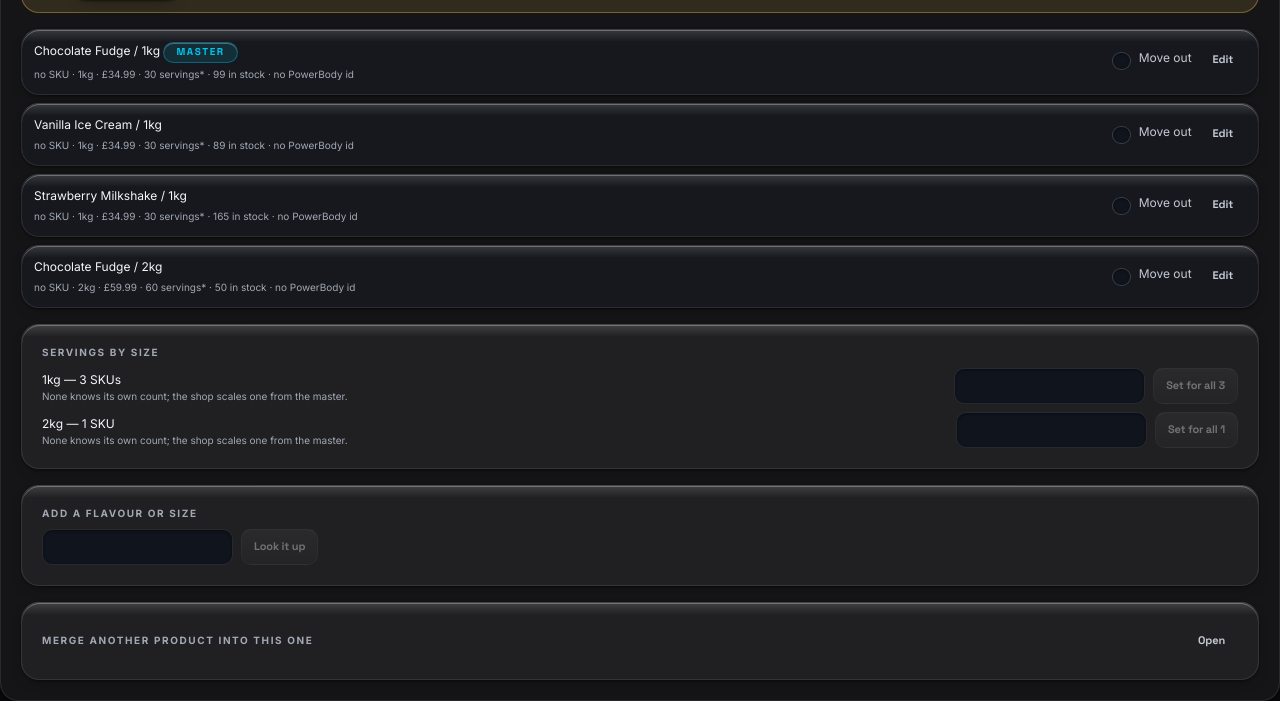
Test: merging another product in › says why and links on when the server still refuses the hand-over
(page scrolled)
Click the button "Open": {"x": 1212, "y": 641} [1185,623,1238,659]
(page scrolled)
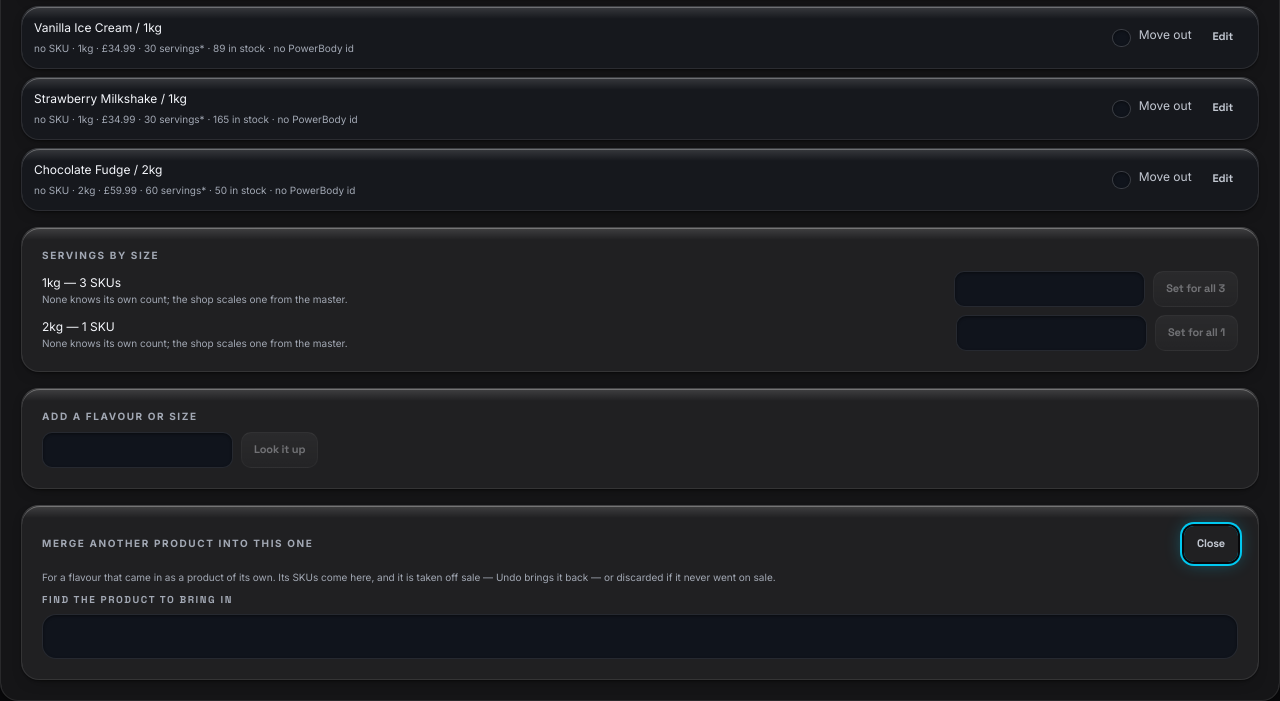
In the search field labelled "Find the product to bring in": {"x": 640, "y": 637} [42,614,1238,659], type "whey"
(page scrolled)
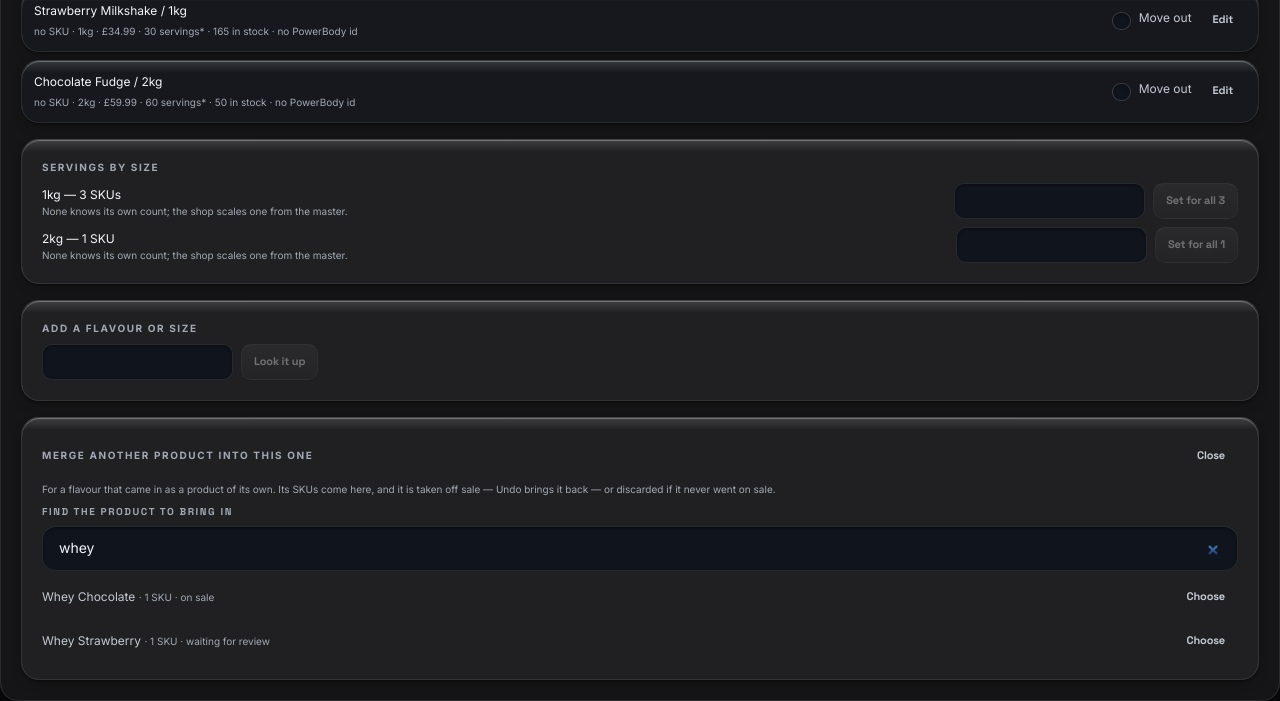
Click the button "Choose" in the row of "Whey Chocolate": {"x": 1206, "y": 597} [1174,579,1238,615]
(page scrolled)
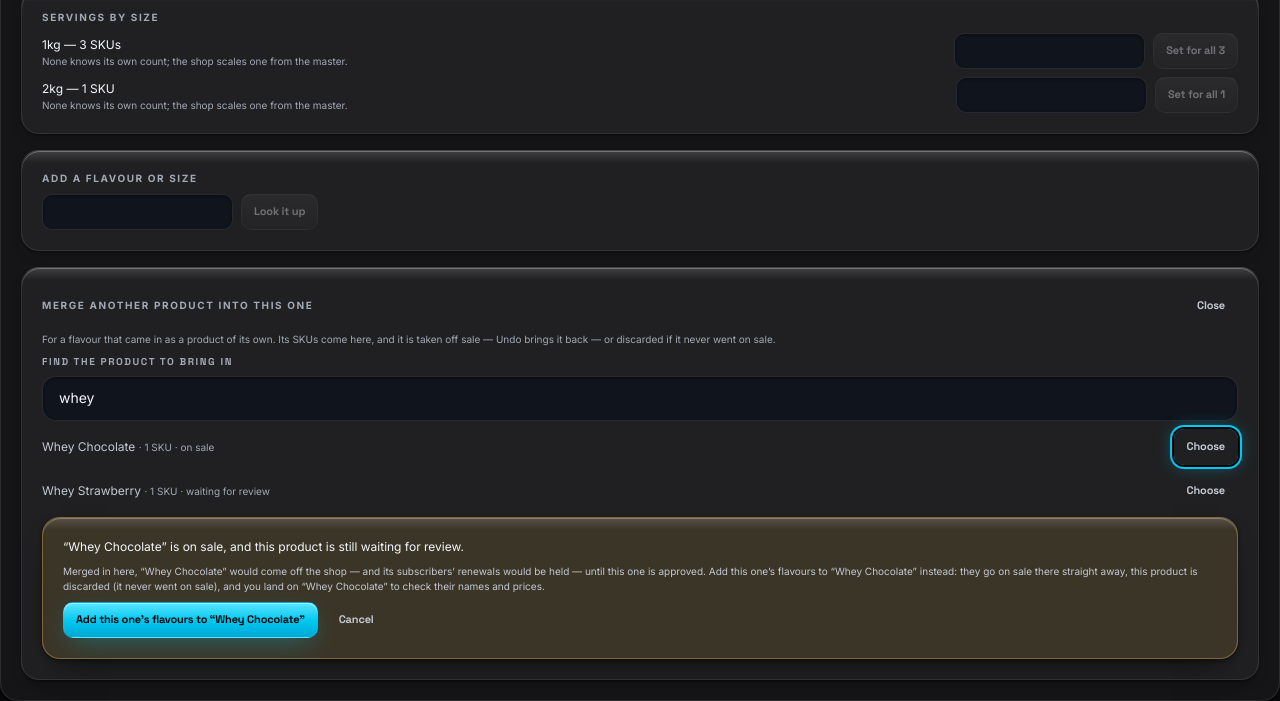
Click the button "Add this one’s flavours to “Whey Chocolate”": {"x": 190, "y": 620} [63,602,318,638]
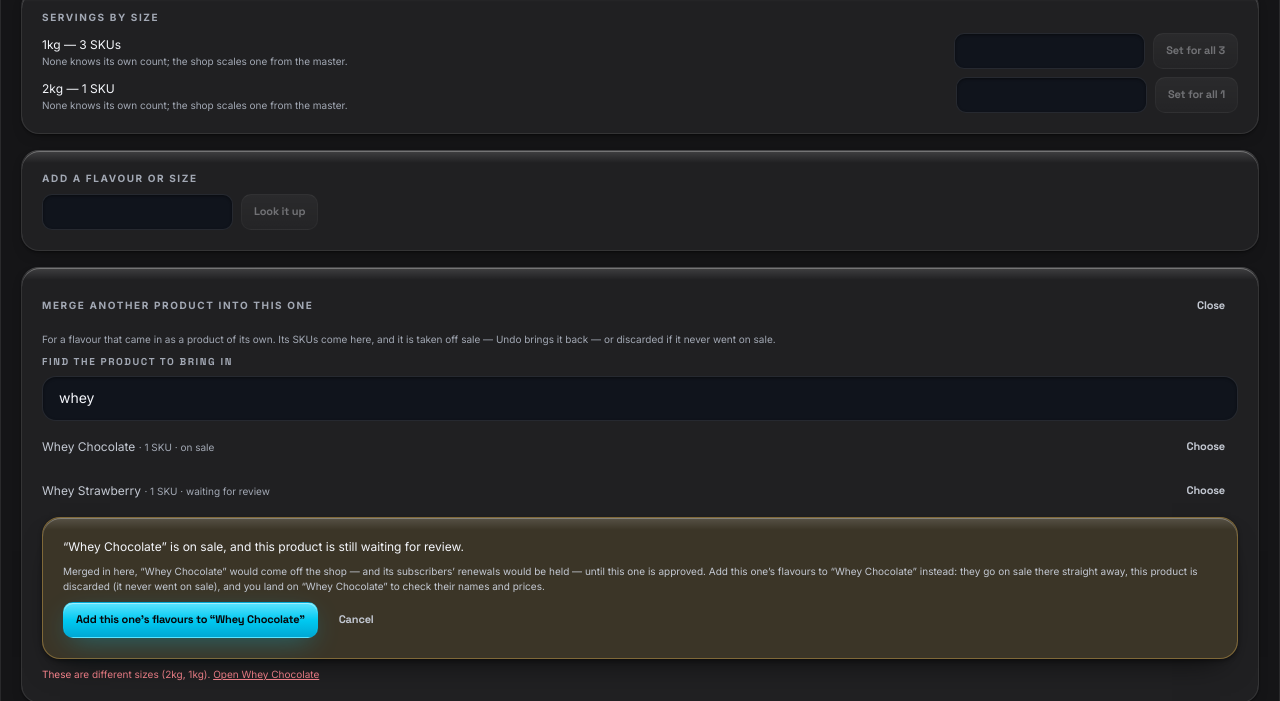
expect the message shows "These are different sizes (2kg, 1kg).": met, box [42,668,210,680]
